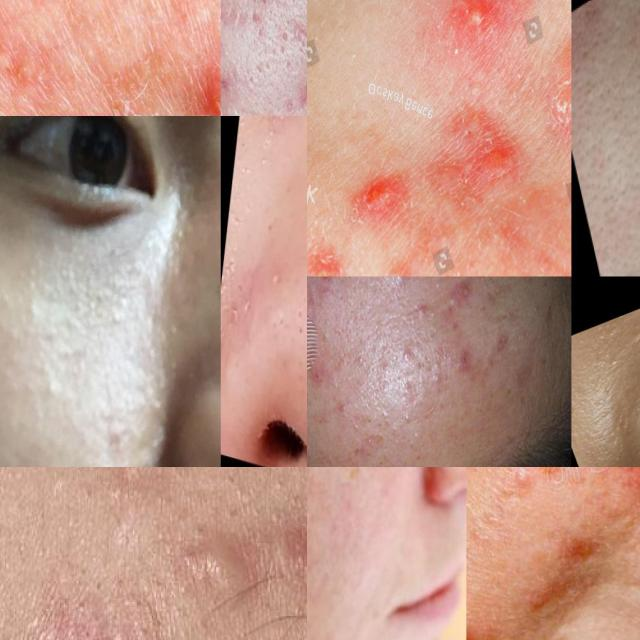acne_scars: (238, 0, 270, 39), (221, 64, 236, 116), (290, 71, 307, 116), (299, 0, 307, 38)
comedone: (257, 259, 290, 298), (408, 294, 437, 330), (466, 467, 494, 503), (350, 335, 375, 375), (289, 288, 307, 342), (330, 386, 357, 418), (424, 353, 448, 388), (345, 412, 369, 441), (399, 398, 418, 429), (428, 276, 448, 296)
cystic: (88, 80, 184, 116), (198, 3, 221, 116)
keloid: (140, 498, 293, 624)
milium: (137, 150, 219, 317), (11, 241, 124, 335), (117, 320, 186, 448)
papule: (343, 150, 427, 252), (447, 334, 484, 382), (393, 277, 415, 285)
pustule: (307, 227, 349, 276), (460, 0, 502, 41)
sebo-crystan-conglo: (444, 276, 486, 316)
